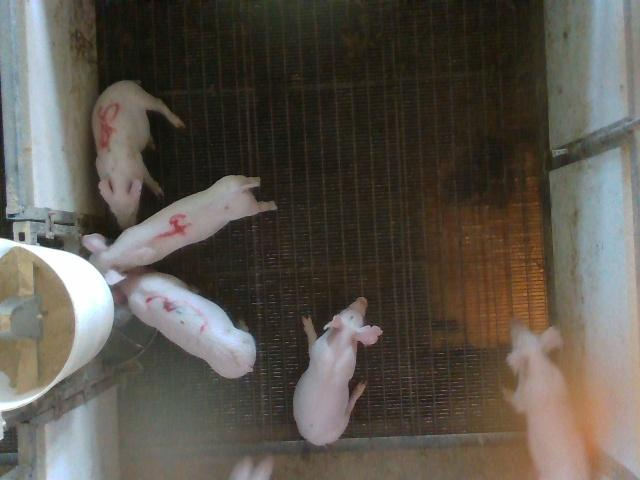pig-3: (119, 270, 255, 378)
pig-4: (82, 176, 276, 284)
pig-5: (92, 80, 184, 228)
